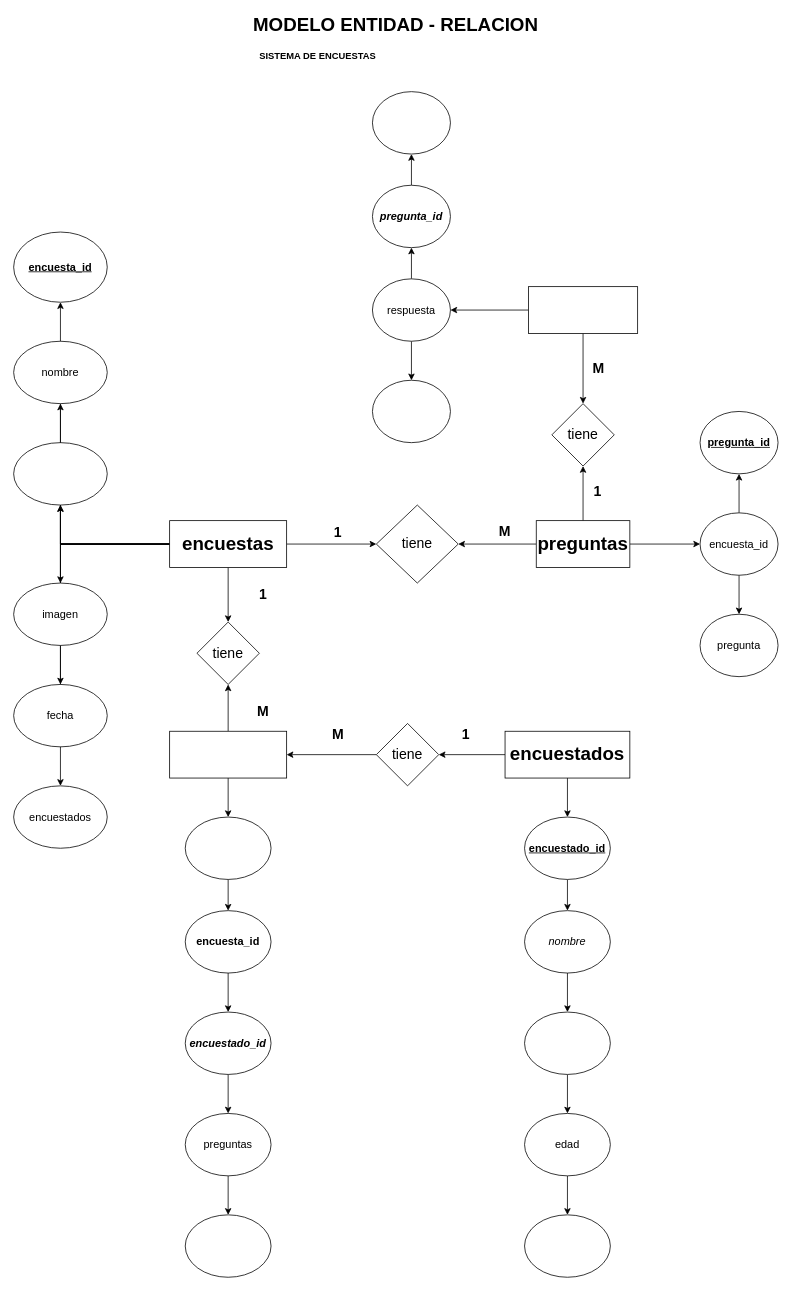
Some shapes in this 792 by 1291 pixel diagram are drawn without their labels. Here are the shapes that lost their labels. From the top down, the centre of each, then its label:
At (x=411, y=122): "respuesta_id".
At (x=583, y=309): "respuestas".
At (x=411, y=411): "es_correcta".
At (x=60, y=473): "descripcion".
At (x=228, y=754): "resultados".
At (x=227, y=847): "resultado_id".
At (x=567, y=1042): "apellido".
At (x=227, y=1245): "correctas".
At (x=567, y=1245): "email".
